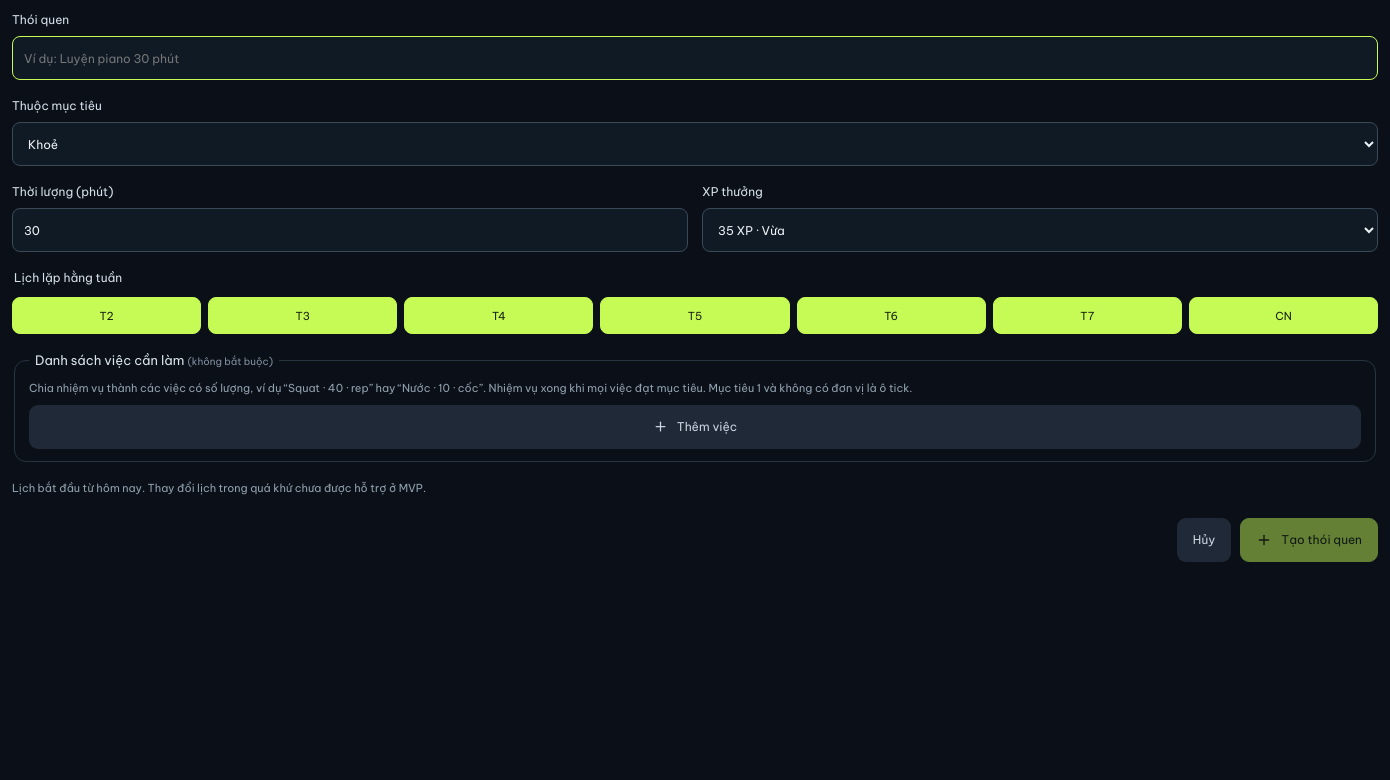
it: forms with a checklist › the create button stays off while a line is invalid
The width and height of the screenshot is (1390, 780).
Type "Tập chân" into the field with placeholder "Ví dụ: Luyện piano 30 phút" at (695, 58), box 12,36 -> 1378,80
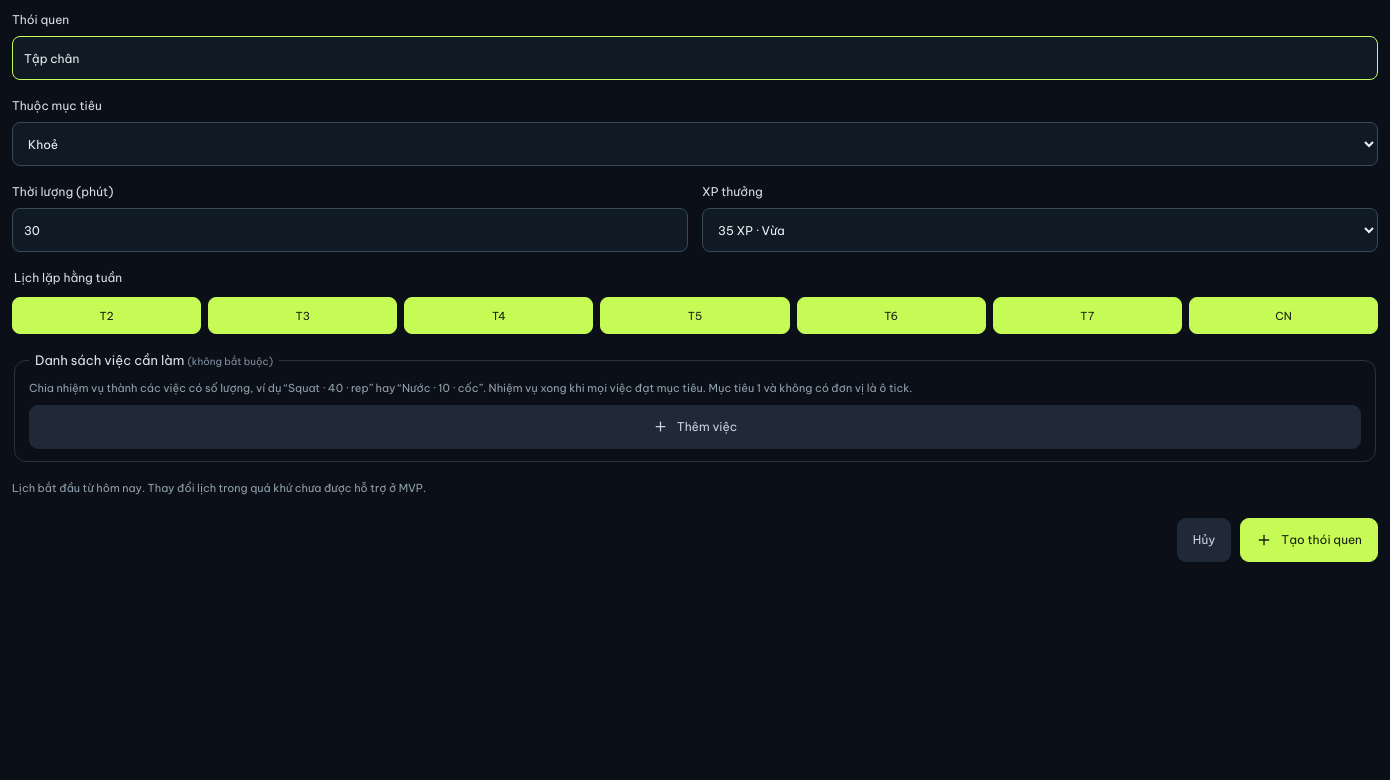
Click the button "Thêm việc" at (695, 426), box 29,404 -> 1361,448
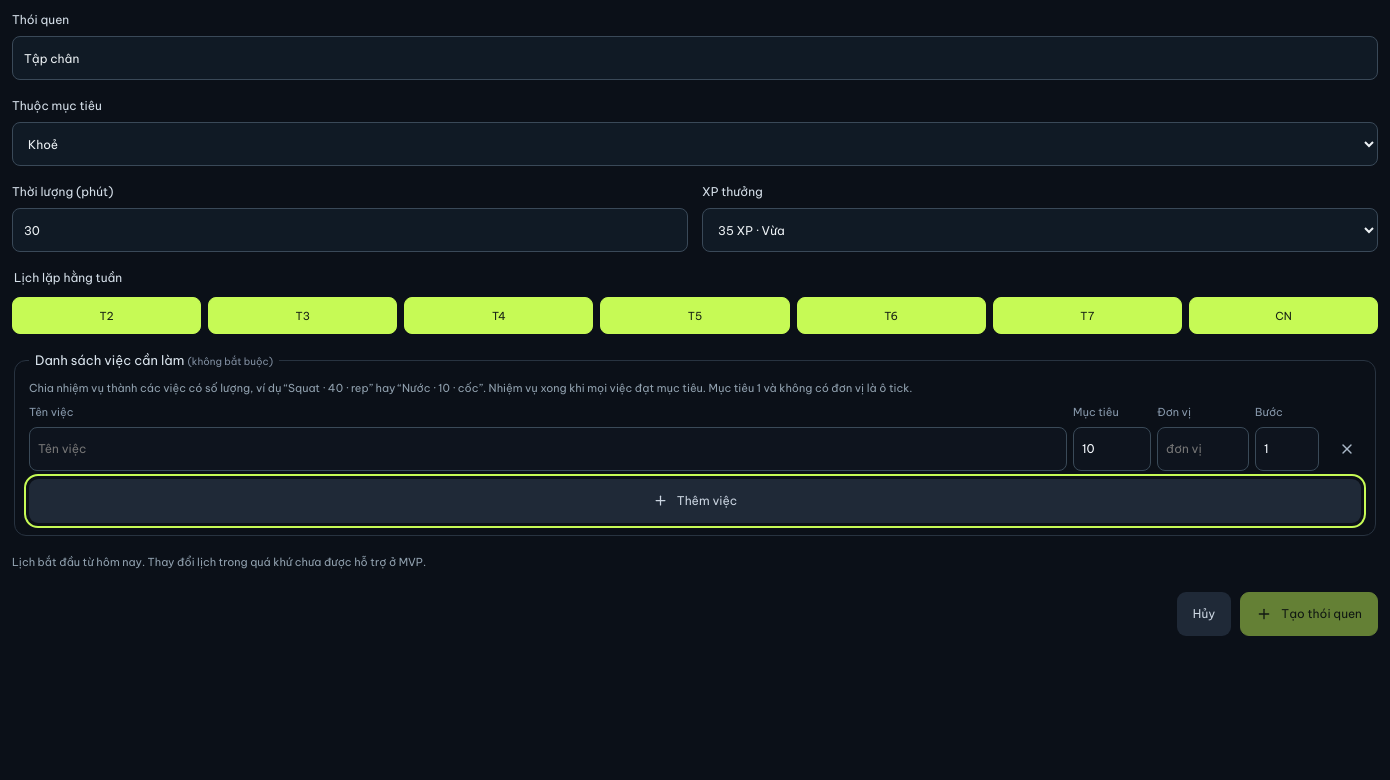
Result: the button "Tạo thói quen" is disabled at 1240,592 -> 1378,636
